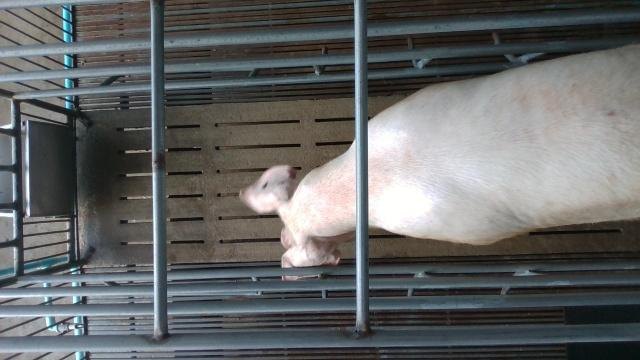sow-stand: (238, 43, 640, 280)
